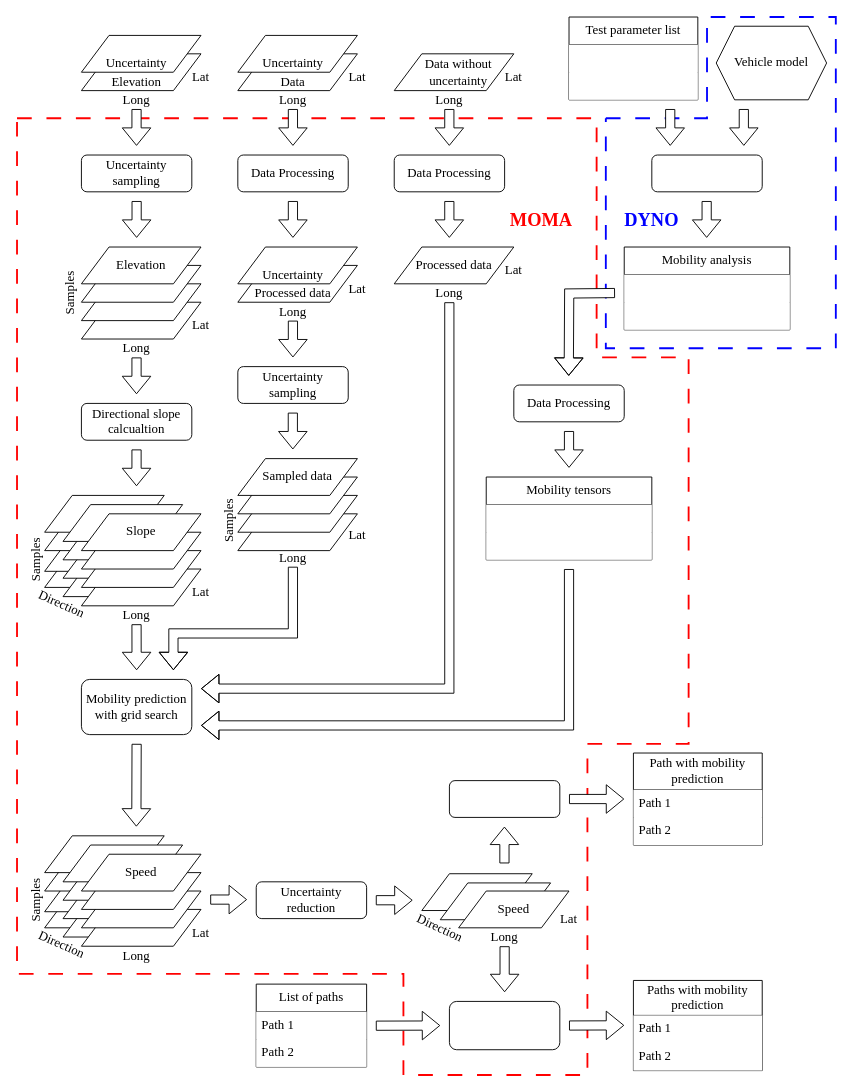
Image size: 853x1092. Some labels were removed from this diagram. The shapes that lost their labels are listed below. From the top down, each one's centre as x and y in pixels, then its label:
At [633,58]: "Parameter set 1".
At [633,85]: "Parameter set 2".
At [706,173]: "Vehicle simulations".
At [706,288]: "Parameter set 1 : Mobility".
At [706,315]: "Parameter set 2: Mobility".
At [568,518]: "Soil type 1: Mobility tensor".
At [568,545]: "Soil type 2: Mobility tensor".
At [504,798]: "Path planner".
At [504,1025]: "Fill mobility predictions in external paths".
